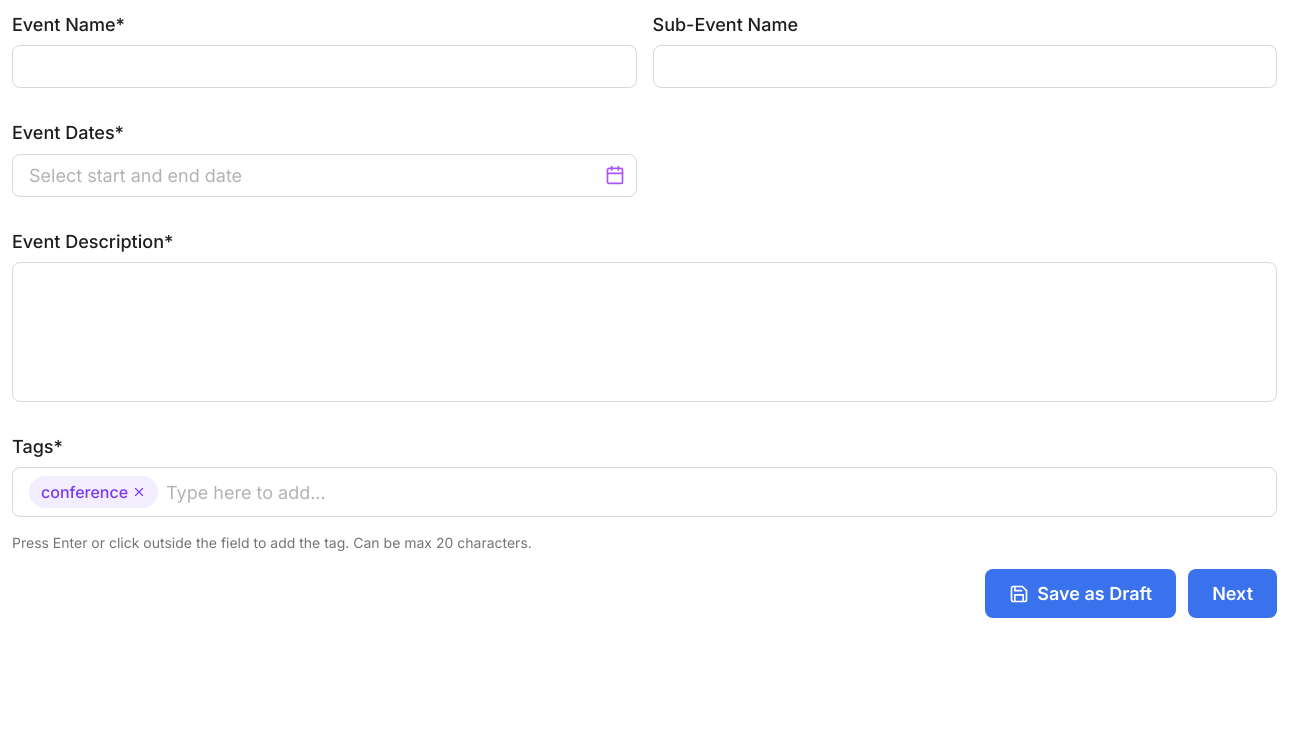
Test: OrchestrationAddEventModalStepOne › removes a tag when its × button is clicked
Expected: the text "conference" is shown, [29,476,158,508]
// Remove button is before "Save as Draft", "Next", "Publish Now"
Click the button named "Remove conference" at (139, 492), box [132,485,146,499]
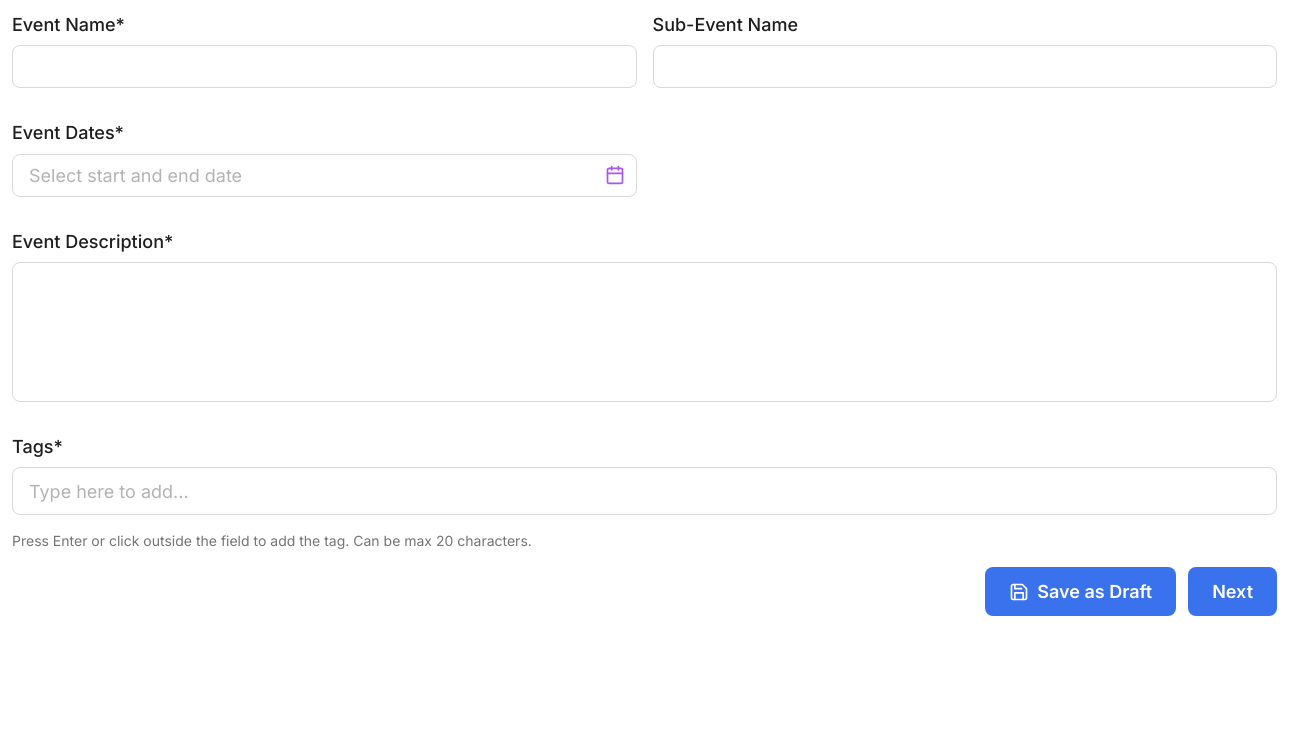
Expected: the text "conference" is gone
